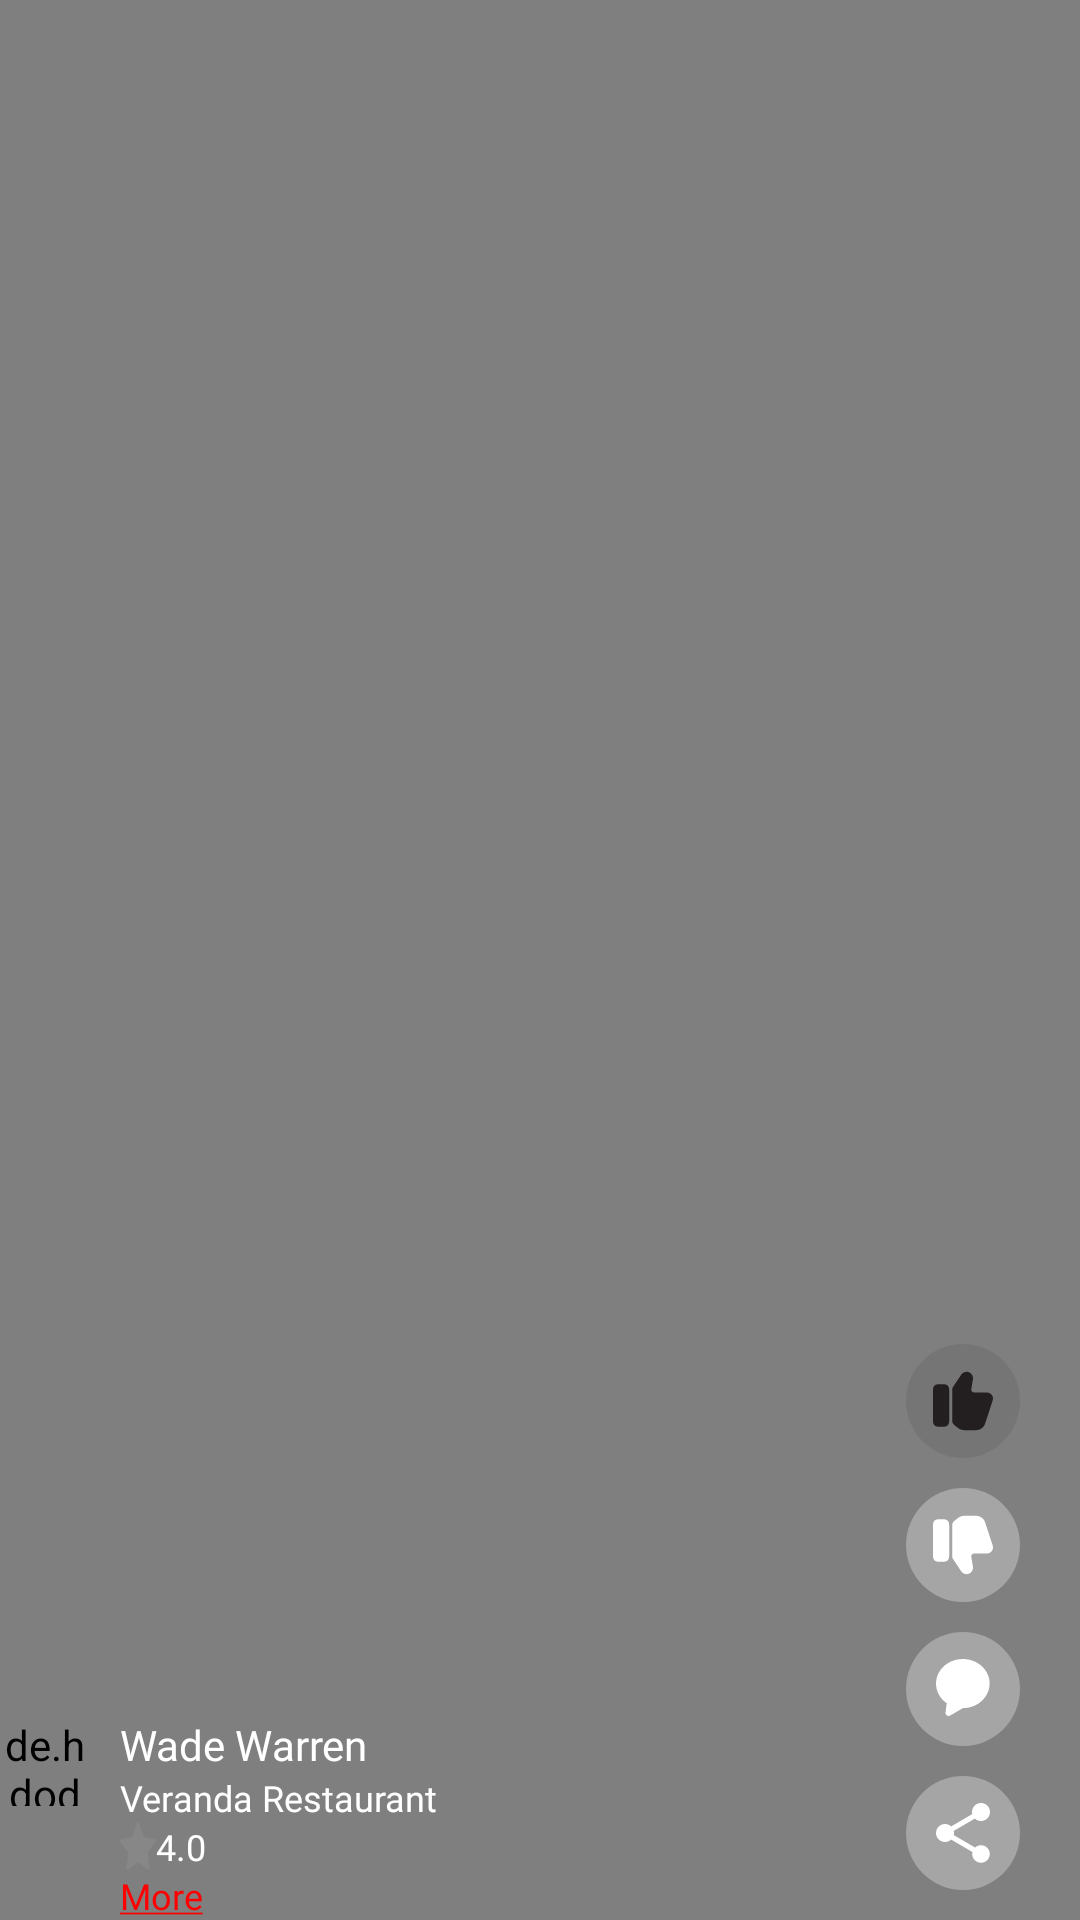

Icons on this 1080×1920 Android screen, each with its box as (x1, y1, x2, y2):
home disslike: (906, 1488, 1020, 1602)
home message: (906, 1632, 1020, 1746)
home share: (906, 1776, 1020, 1890)
likeb: (933, 1371, 993, 1431)
